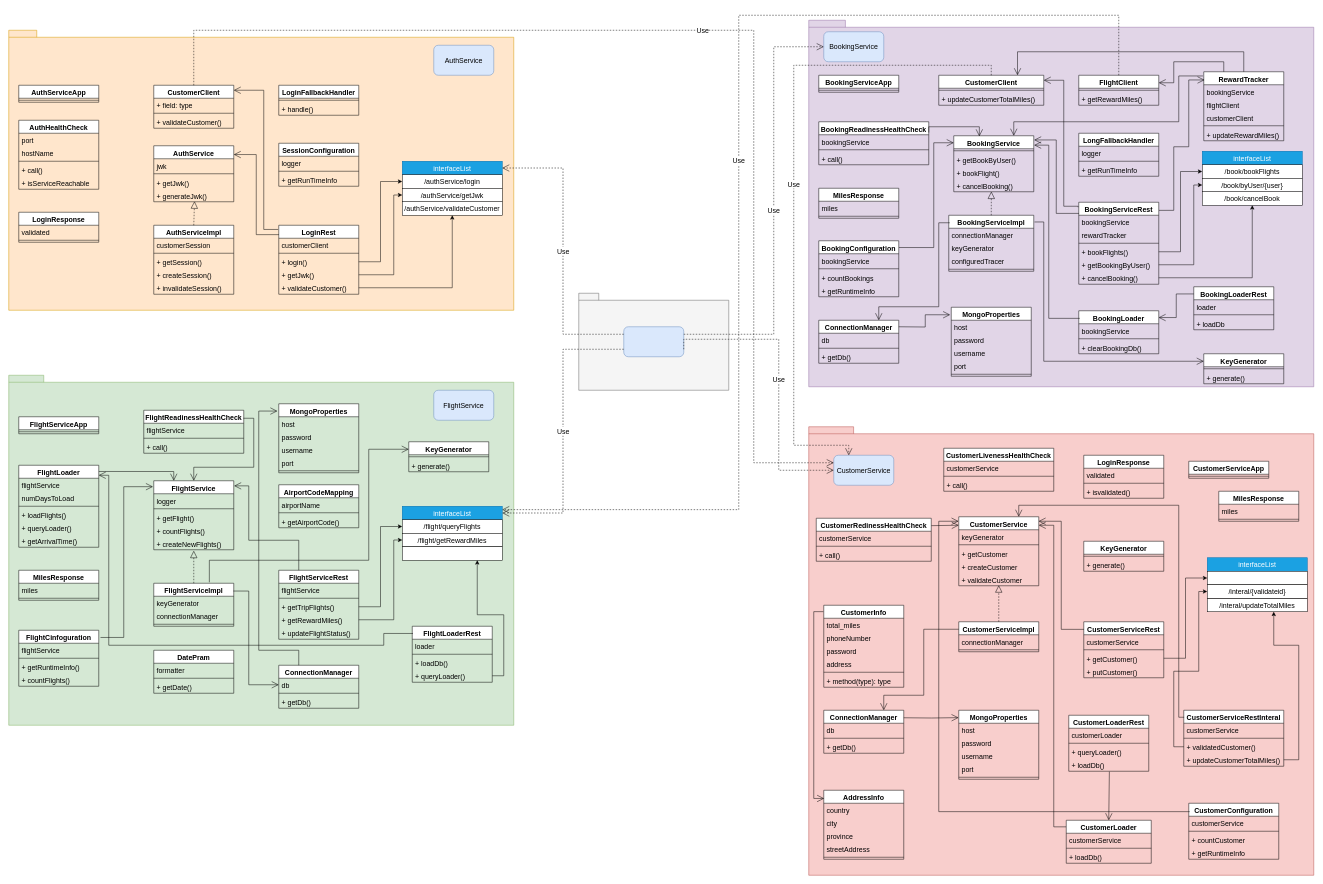
This 1323x884 diagram has some shape labels left out. Each missing label, with the centre of its shape:
/customer/byid/{custid}: [1257,578]
/flight/queryLoader: [452,553]
MainService: [653,341]
